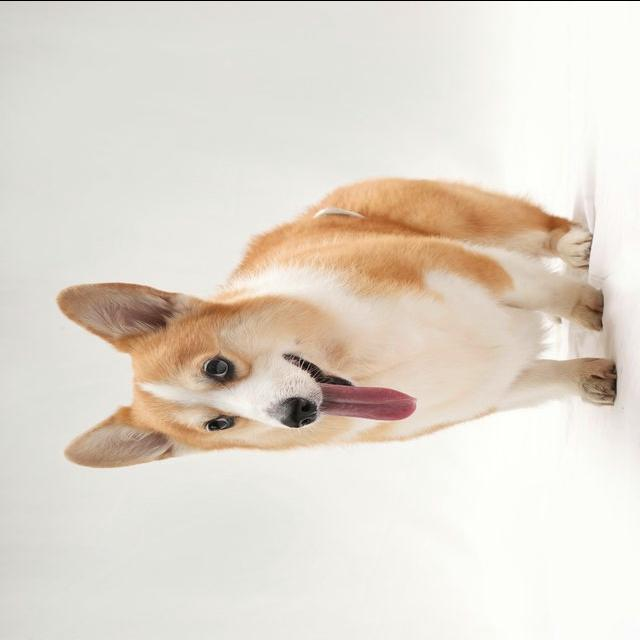corgi: (54, 175, 617, 468)
